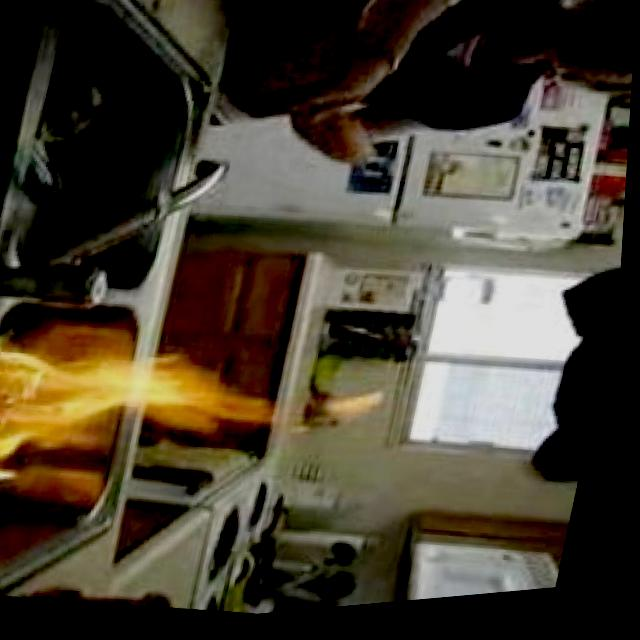helmet: (0, 317, 307, 522)
